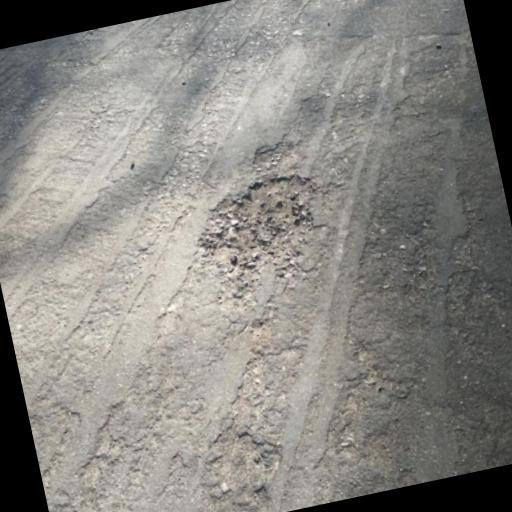pothole: (176, 162, 338, 298), (247, 136, 297, 174)
